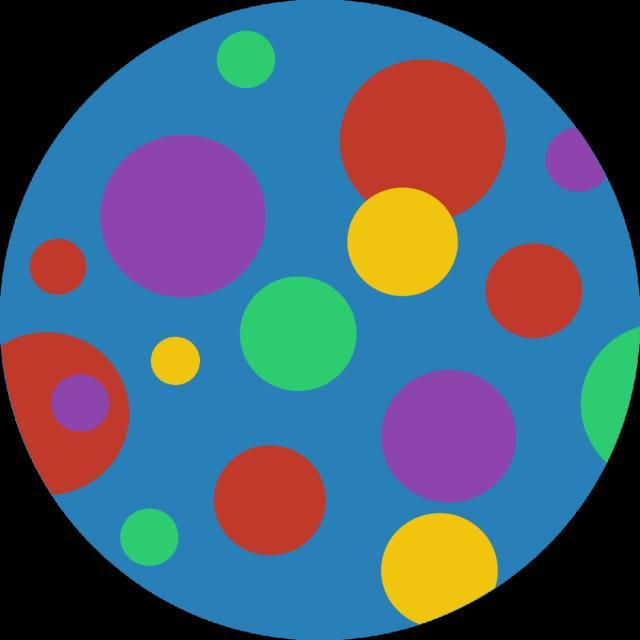Circle: (100, 135, 266, 301), (338, 58, 506, 220), (381, 370, 518, 503), (240, 274, 359, 392), (381, 511, 498, 628), (214, 443, 326, 556), (346, 188, 458, 298), (484, 242, 584, 338), (217, 30, 276, 90), (121, 508, 177, 568), (51, 374, 110, 430), (30, 240, 87, 293), (150, 336, 201, 386)
